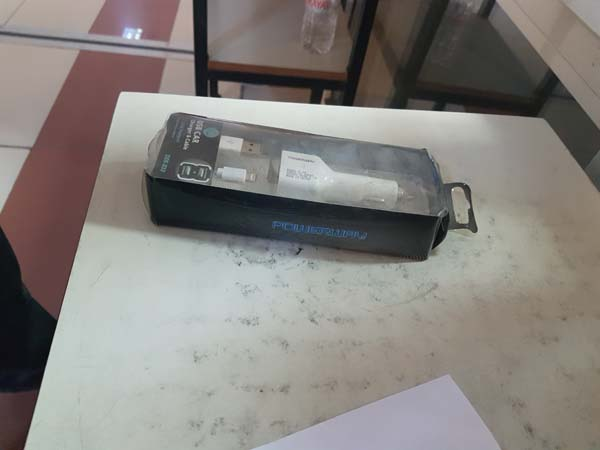usbcarcharger: (140, 108, 482, 263)
